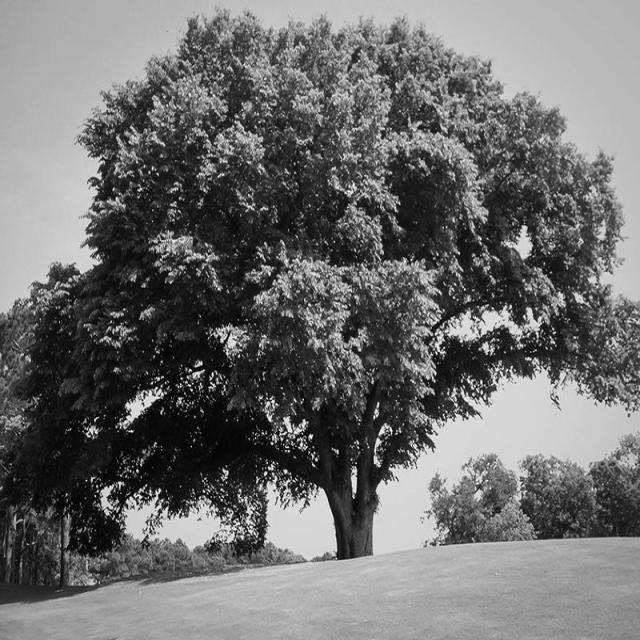olmo: (50, 15, 638, 563)
